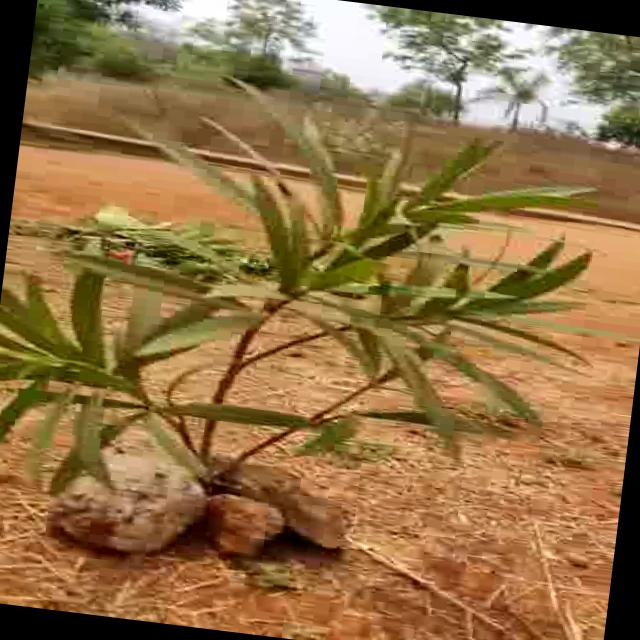OLEANDER: (0, 41, 640, 538)
